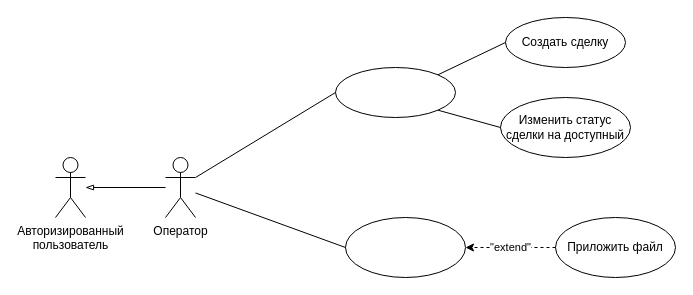
The diagram is 693 pixels wide and 295 high, and some of its shapes have lost their labels. The shapes that lost their labels are listed below. From the top down, each one's box as (x1, y1, x2, y2) in pixels, then its label:
(334, 66, 456, 118): Управление сделками
(344, 216, 466, 278): Отправиить соощение клиенту
